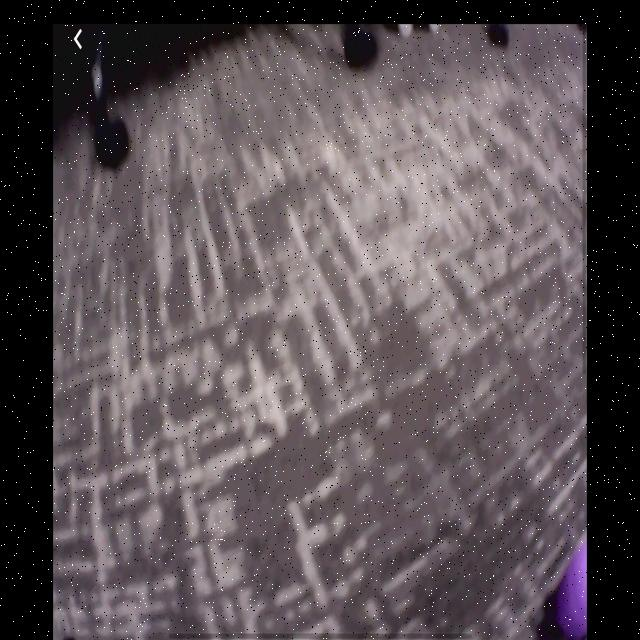ball: (554, 539, 590, 640)
